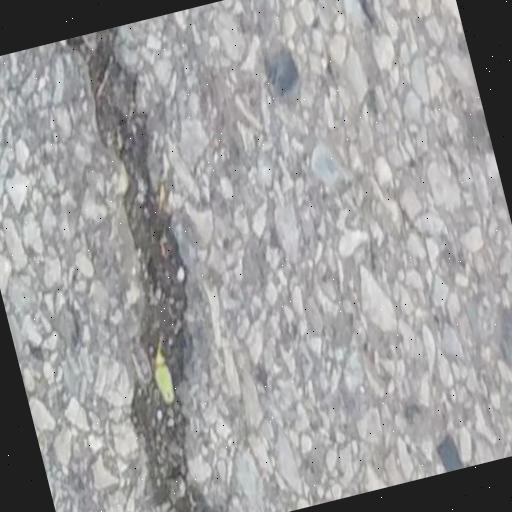spalling: (58, 30, 221, 512)
